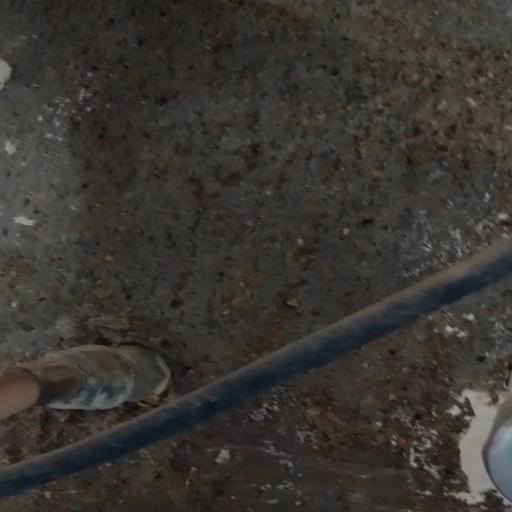spalling: (10, 0, 512, 505)
